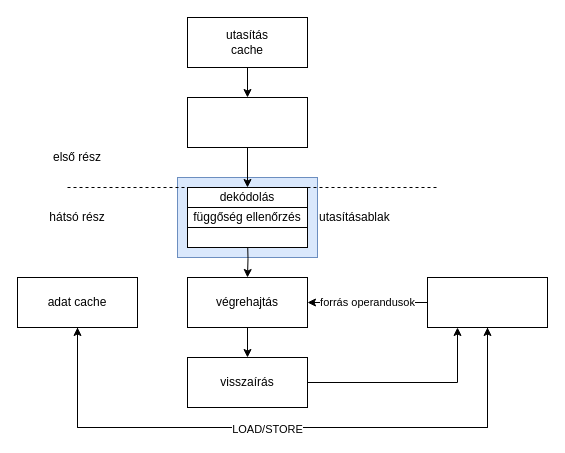
This 565x453 diagram has some shape labels left out. Here are the shapes that lost their labels. From the top down, the centre of each, then its label:
(247,122): lehívás
(247,237): kibocsátás
(487,302): regisztertár
